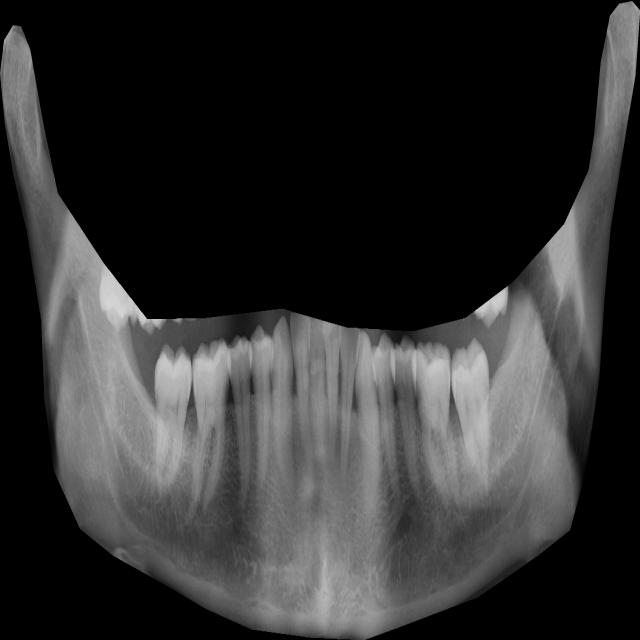mandibula: (0, 1, 640, 640)
